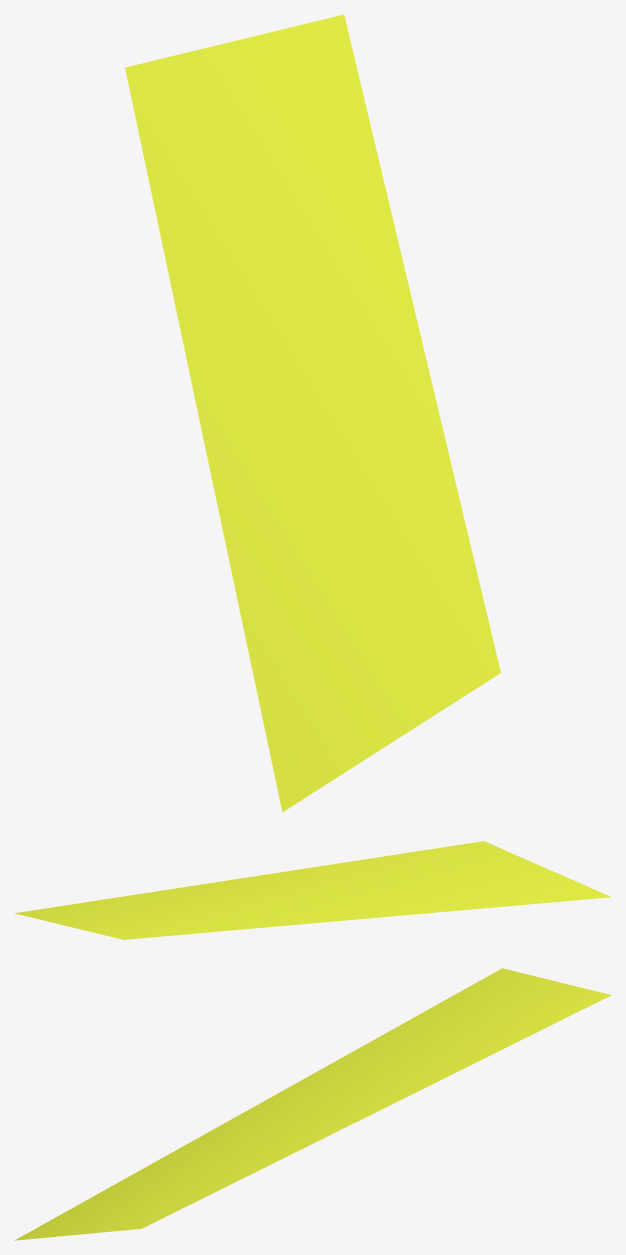
File: b_polySurface654_b_BMW_i8Elite_2_632.glb
3 views of the same model, one above another, from view 1: azimuth 30°, elevation 25°; view 2: azimuth 150°, elevation 25°; view 3: azimuth 330°, elevation 25° (orthographic). The views are drawn at different scales.
Parts seen in each view (by area): view 1: b:polySurface654_b:BMW_i8Elite_2017CalliperGloss_Material1_0; view 2: b:polySurface654_b:BMW_i8Elite_2017CalliperGloss_Material1_0; view 3: b:polySurface654_b:BMW_i8Elite_2017CalliperGloss_Material1_0.
Boxes of the visible parts, box(x1,y1,x2,y2) form: b:polySurface654_b:BMW_i8Elite_2017CalliperGloss_Material1_0: box(125, 14, 500, 812); b:polySurface654_b:BMW_i8Elite_2017CalliperGloss_Material1_0: box(15, 841, 611, 939); b:polySurface654_b:BMW_i8Elite_2017CalliperGloss_Material1_0: box(14, 968, 611, 1240).
Size of the model in its own units: 0.026 by 0.00907 by 0.0405.
